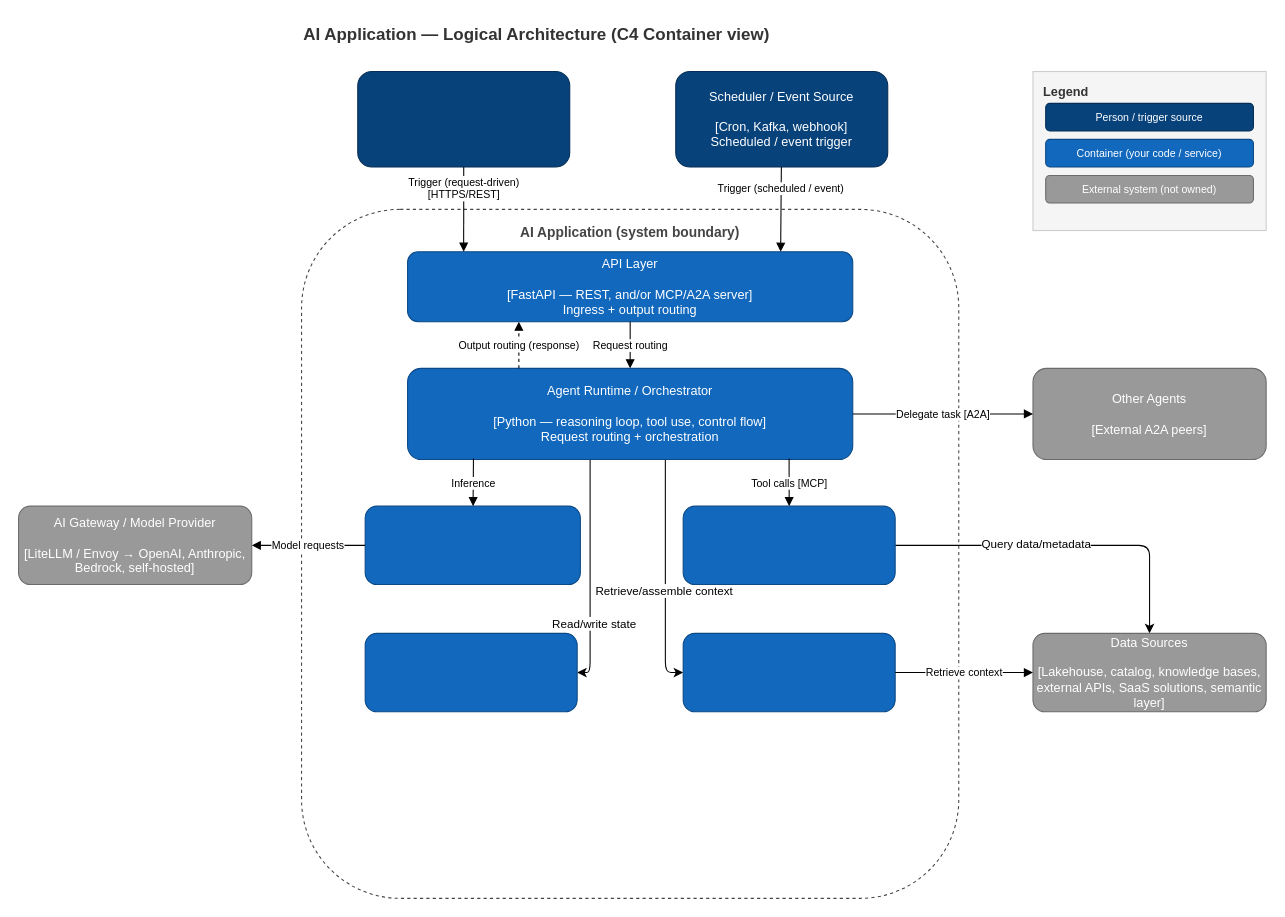
Image size: 1285x917. Some labels were removed from this diagram. Here are the shapes that lost their labels. From the top down, the centre of each, then its label:
pixel 463 118: User / Requesting Process [Person or upstream system] Request-driven trigger
pixel 472 545: Model Service [Inference client] Models
pixel 788 545: Tools [MCP client] Tool / data access
pixel 470 672: Memory / State Store [Short + long-term memory] Storage
pixel 788 672: Context Engineering [Retrieval / formatting] Context assembly
